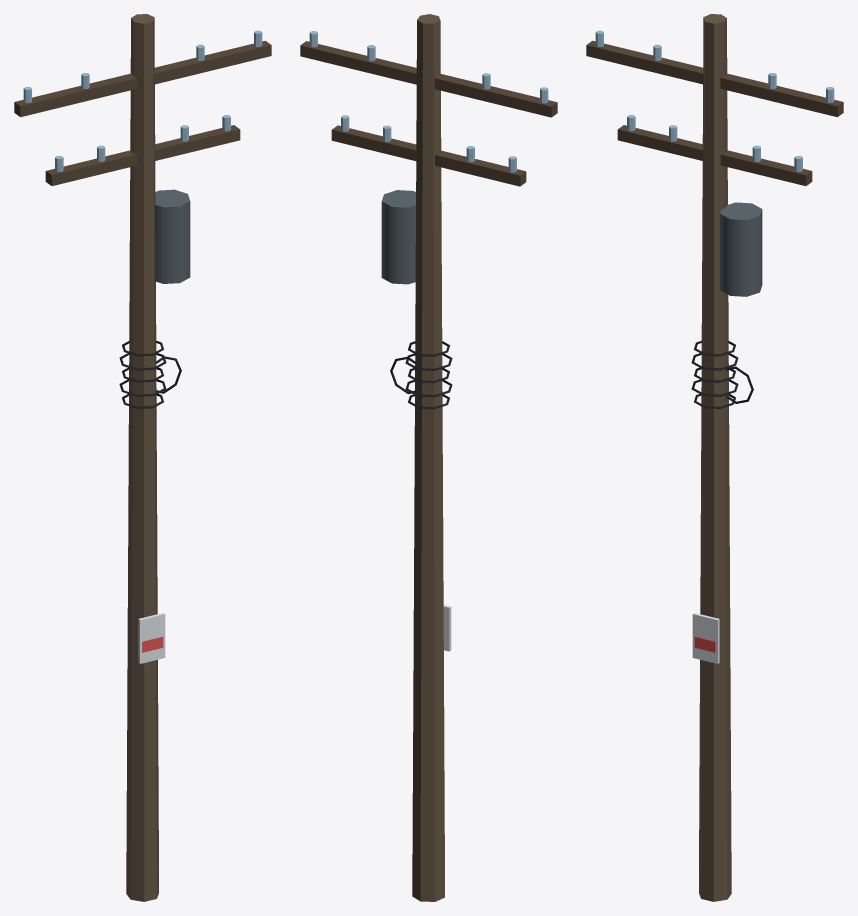
File: power_pole.glb
The picture shows the model from 3 angles, left to right: view 1: azimuth 30°, elevation 25°; view 2: azimuth 150°, elevation 25°; view 3: azimuth 330°, elevation 25°; orthographic projection.
Parts seen in each view (by area): view 1: power_pole; view 2: power_pole; view 3: power_pole.
Boxes of the visible parts, x1=… form: power_pole: x1=14, y1=14, x2=271, y2=901; power_pole: x1=300, y1=14, x2=557, y2=901; power_pole: x1=586, y1=14, x2=843, y2=901.
Size of the model in its own units: 2.4 by 8 by 0.404.
